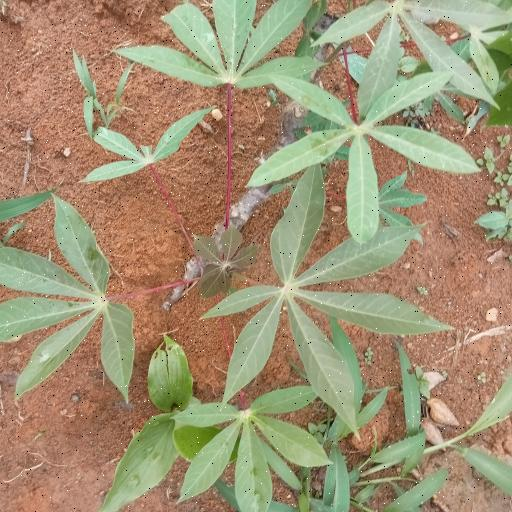Cassava_Mosaic: (212, 173, 428, 421)
